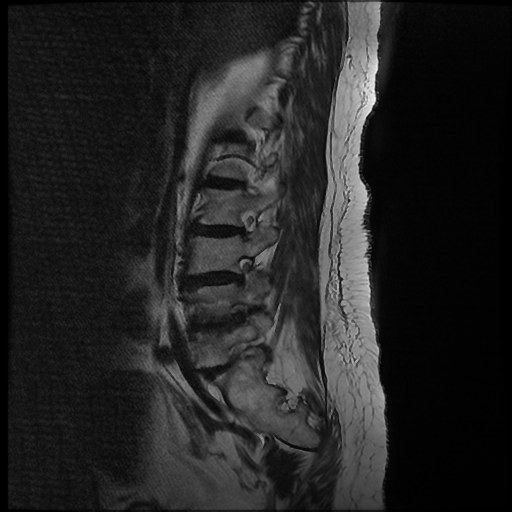RFS0: (226, 250, 262, 292)
